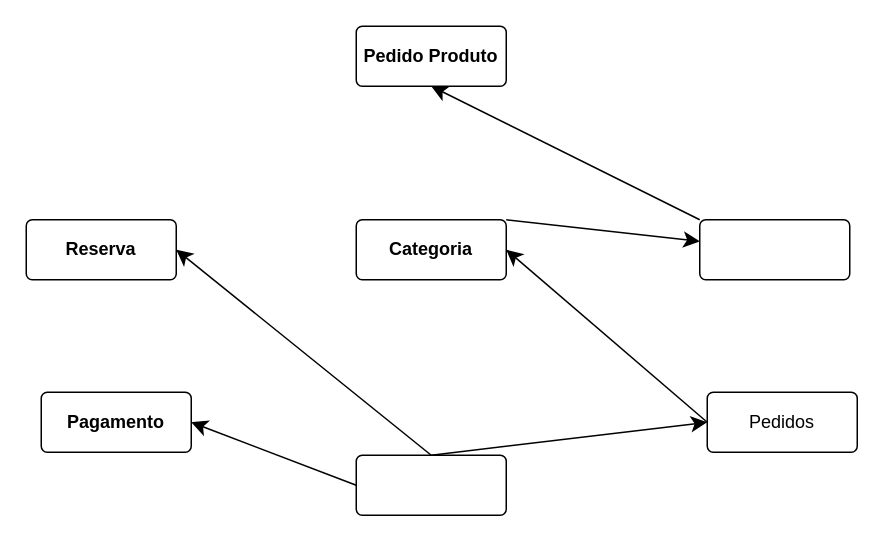
Image size: 884x542. Some labels were removed from this diagram. Here are the shapes that lost their labels. From the top down, the centre of each, then its label:
At point (774, 249): "Produtos".
At point (430, 484): "Usuario".
